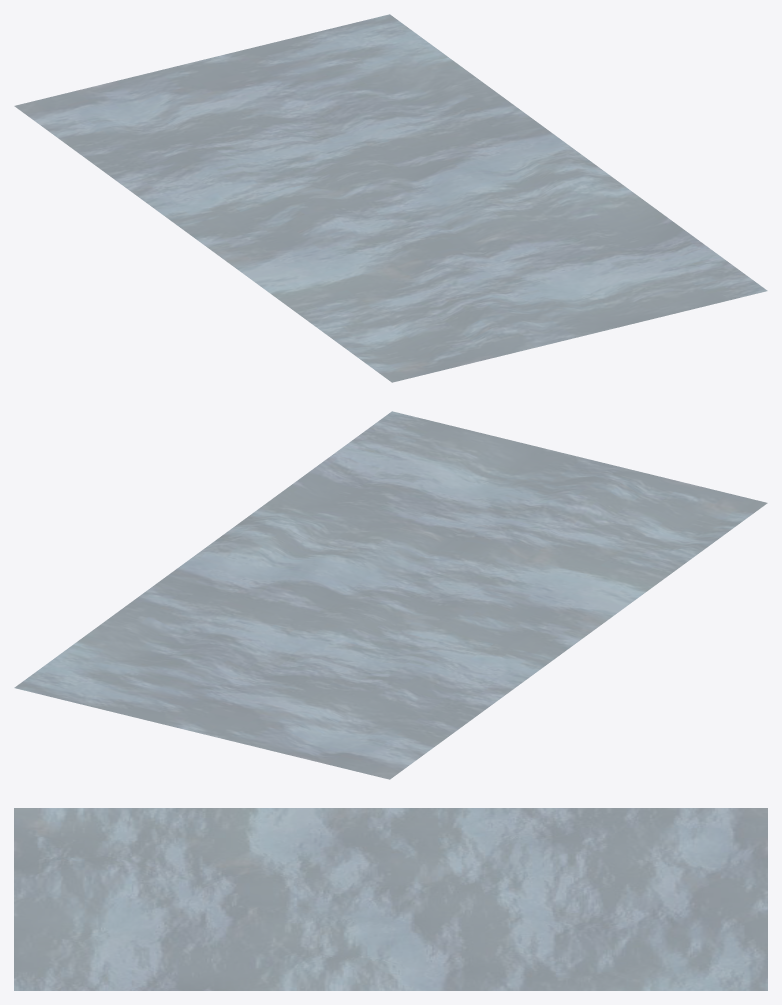
The model's file is cloudfloor.fbx.
The picture shows the model from 3 angles, top to bottom: view 1: azimuth 30°, elevation 25°; view 2: azimuth 150°, elevation 25°; view 3: azimuth 270°, elevation 25°; orthographic projection.
Visible parts, largest first — view 1: pPlane6; view 2: pPlane6; view 3: pPlane6.
Part boxes in pixels (x1=…): pPlane6: x1=14, y1=14, x2=767, y2=382; pPlane6: x1=14, y1=411, x2=767, y2=779; pPlane6: x1=14, y1=808, x2=767, y2=990.
Bounding box in the file's own units: 132 × 4.31 × 229.
Materials: 1 (1 with a texture image).
